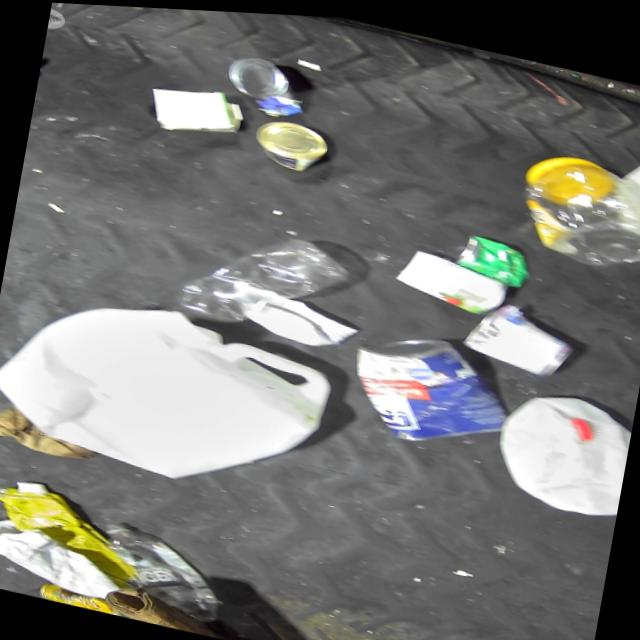can: (343, 314, 514, 454), (221, 47, 312, 119), (251, 111, 331, 173), (449, 225, 534, 283), (390, 637, 515, 640)
milk_jug: (0, 270, 337, 507), (488, 374, 635, 515)
non_white_jug: (0, 471, 144, 584)
plastic_bottle: (172, 209, 353, 345), (508, 138, 640, 271), (92, 516, 232, 622)
